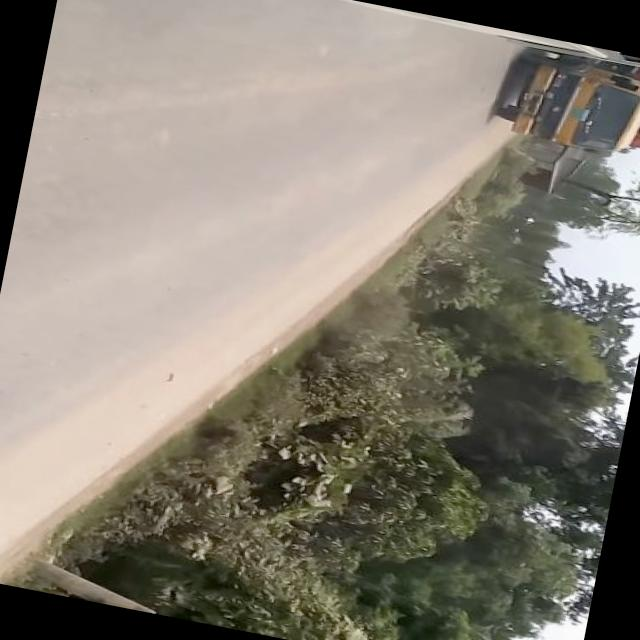truck: (486, 40, 640, 170)
